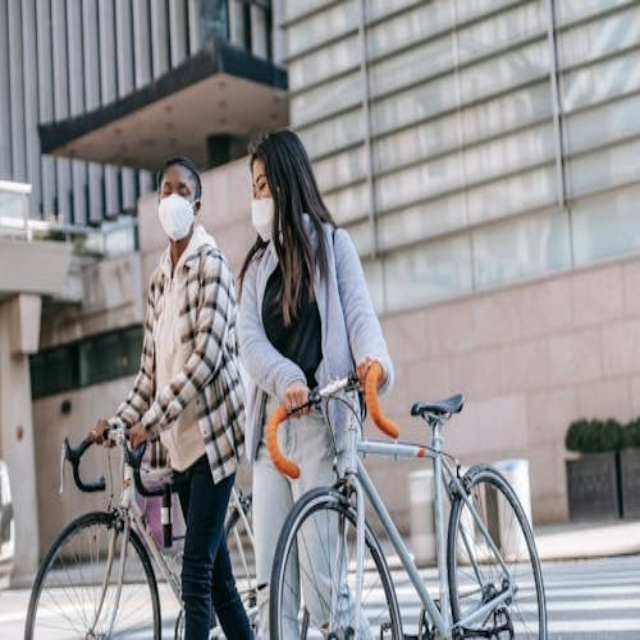Mascara: (157, 193, 196, 241), (251, 195, 275, 242)
Sin_gafas: (160, 179, 193, 198), (253, 174, 268, 193)
Sin_guantes: (280, 381, 317, 421), (89, 417, 111, 445), (128, 422, 147, 450)
